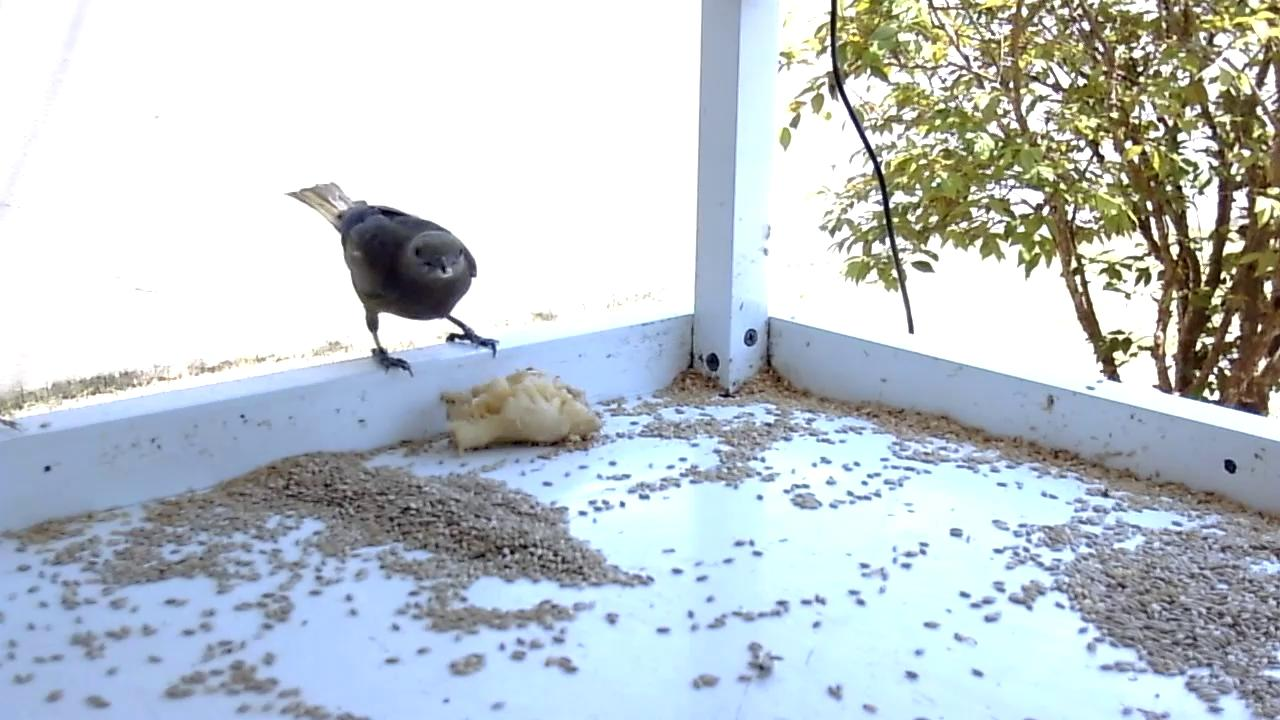sanhaco_do_coqueiro: (283, 180, 505, 383)
